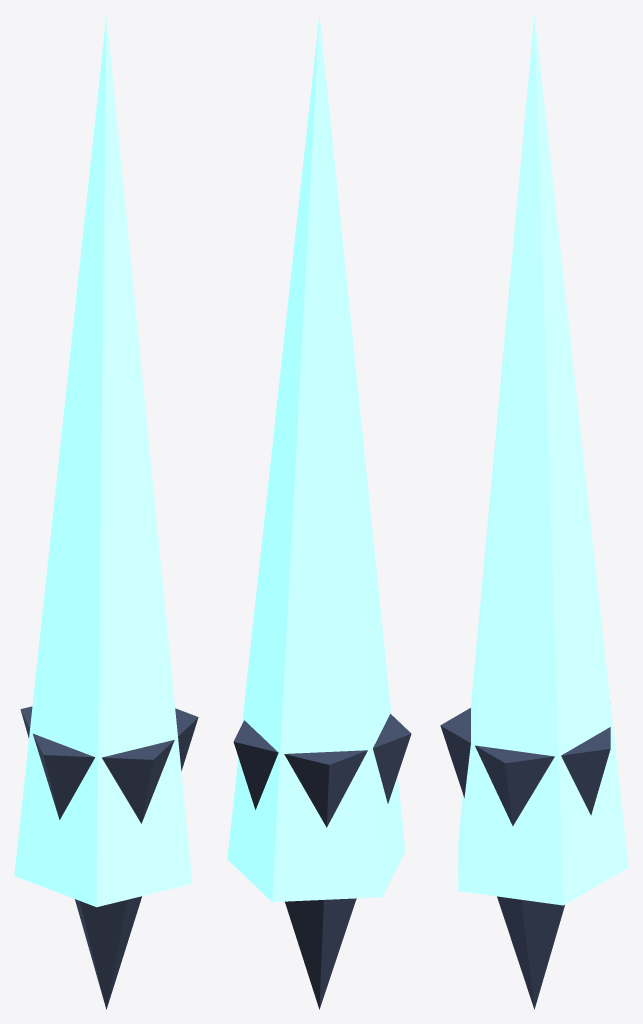
The model's file is Sky_OR_StormShard_07.glb.
3 renders of one model, left to right at view 1: azimuth 30°, elevation 25°; view 2: azimuth 150°, elevation 25°; view 3: azimuth 270°, elevation 25°, orthographic.
Parts seen in each view (by area): view 1: Sky_OR_StormShard_07; view 2: Sky_OR_StormShard_07; view 3: Sky_OR_StormShard_07.
Part boxes in pixels (x1,y1,x2,y2): Sky_OR_StormShard_07: (14,14,198,1009); Sky_OR_StormShard_07: (227,14,411,1009); Sky_OR_StormShard_07: (440,14,628,1009).
Bounding box in the file's own units: 0.5706 × 3.5 × 0.6.
